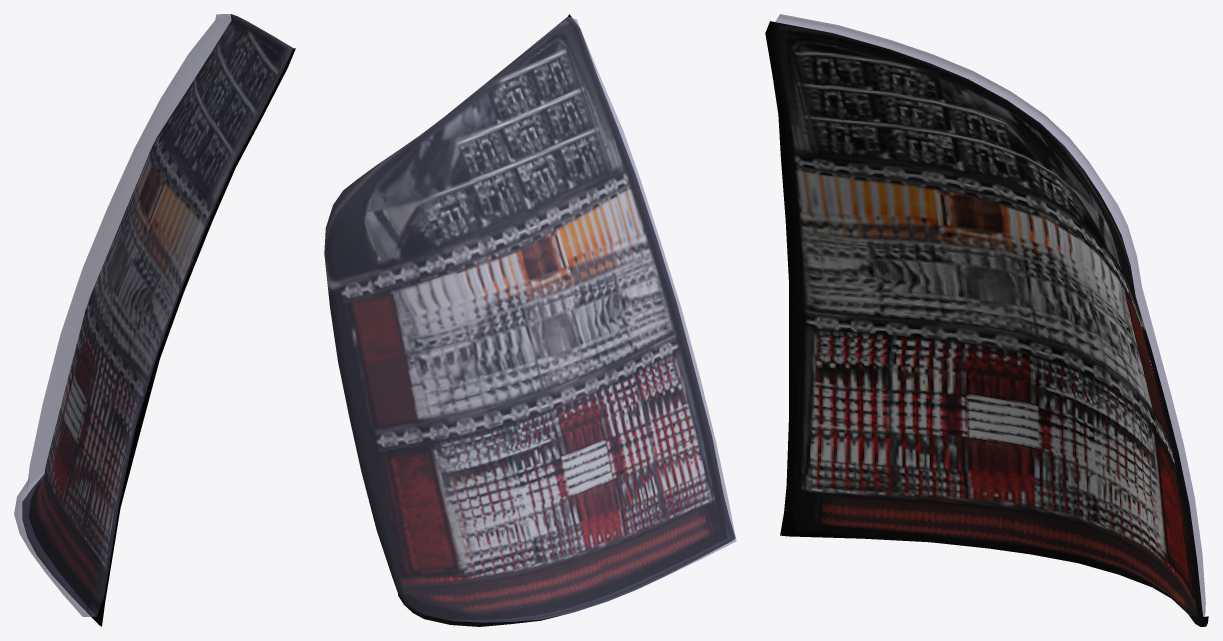
3 views of the same model, side by side, from view 1: azimuth 30°, elevation 25°; view 2: azimuth 150°, elevation 25°; view 3: azimuth 270°, elevation 25° (orthographic). The views are drawn at different scales.
Visible parts, largest first — view 1: Y191_13_541C_L_Y191_13_541C_L_1_DTaSI, Y191_13_541C_L_4_N_Y191_13_541C_L, Y191_13_541C_L_Y191_13_541C_L_3_D; view 2: Y191_13_541C_L_Y191_13_541C_L_1_DTaSI, Y191_13_541C_L_4_N_Y191_13_541C_L, Y191_13_541C_L_Y191_13_541C_L_3_D; view 3: Y191_13_541C_L_4_N_Y191_13_541C_L, Y191_13_541C_L_Y191_13_541C_L_1_DTaSI, Y191_13_541C_L_Y191_13_541C_L_3_D.
Part boxes in pixels (x1,y1,x2,y2): Y191_13_541C_L_Y191_13_541C_L_1_DTaSI: (14, 14, 292, 616); Y191_13_541C_L_4_N_Y191_13_541C_L: (29, 14, 292, 616); Y191_13_541C_L_Y191_13_541C_L_3_D: (22, 48, 295, 626); Y191_13_541C_L_Y191_13_541C_L_1_DTaSI: (324, 16, 736, 622); Y191_13_541C_L_4_N_Y191_13_541C_L: (324, 17, 727, 620); Y191_13_541C_L_Y191_13_541C_L_3_D: (398, 14, 735, 626); Y191_13_541C_L_4_N_Y191_13_541C_L: (771, 22, 1203, 626); Y191_13_541C_L_Y191_13_541C_L_1_DTaSI: (775, 14, 1205, 616); Y191_13_541C_L_Y191_13_541C_L_3_D: (765, 21, 1208, 626).
Bounding box in the file's own units: 21.81 × 35.3 × 22.76.
